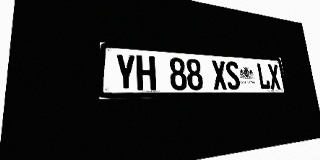8: (169, 57, 187, 90), (186, 58, 203, 90)
H: (136, 55, 156, 90)
L: (256, 63, 271, 89)
S: (225, 61, 241, 90)
X: (211, 60, 228, 90), (267, 64, 281, 89)
Y: (115, 53, 136, 91)
